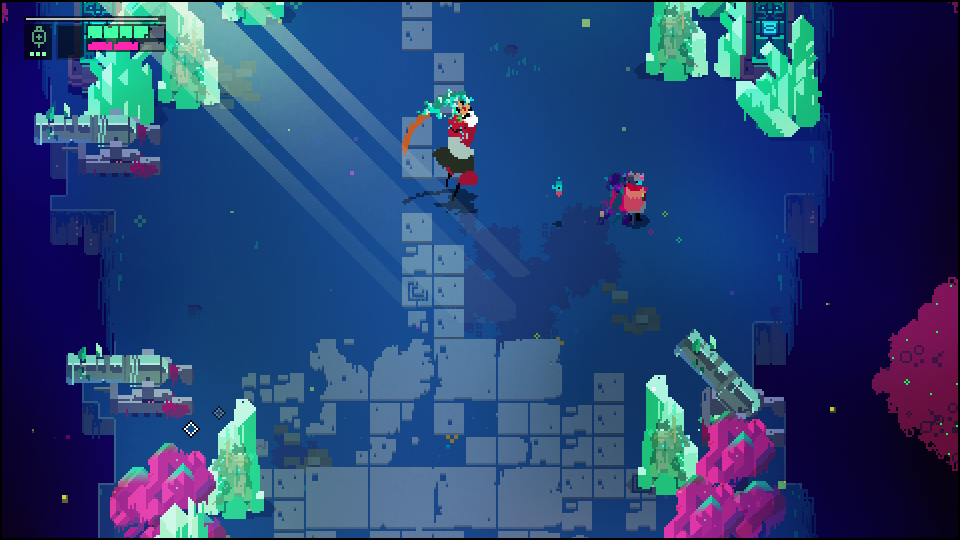hanged_man: (404, 88, 481, 212)
player: (618, 168, 644, 218)
